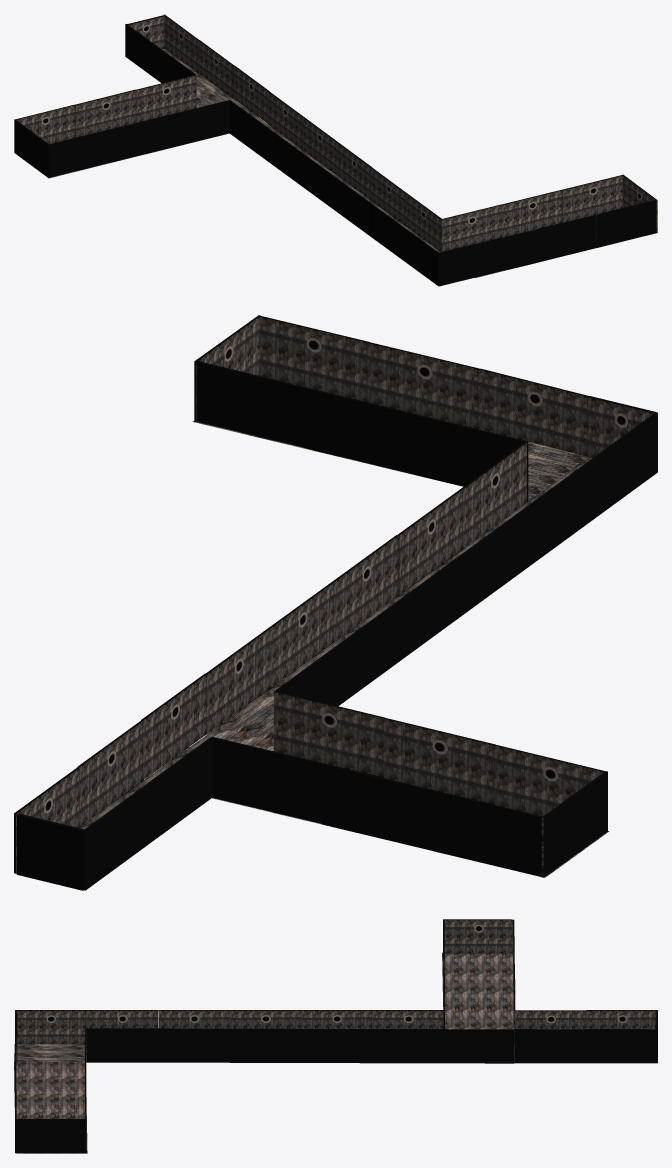
File: shipwreckscene2.fbx
The picture shows the model from 3 angles, top to bottom: view 1: azimuth 30°, elevation 25°; view 2: azimuth 150°, elevation 25°; view 3: azimuth 270°, elevation 25°; orthographic projection. The views are drawn at different scales.
Visible parts, largest first — view 1: polySurface848; view 2: polySurface848; view 3: polySurface848.
Part boxes in pixels (bbox=[...]): polySurface848: bbox=[14, 14, 657, 286]; polySurface848: bbox=[14, 315, 657, 890]; polySurface848: bbox=[14, 919, 657, 1153].
Bounding box in the file's own units: 266 × 21.12 × 361.
Materials: 4 (4 with a texture image).
